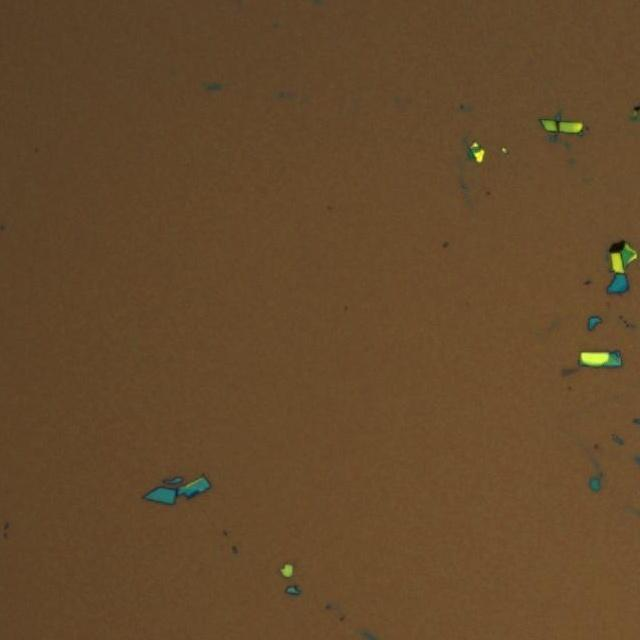monolayer-eWW4: (560, 368, 578, 378)
